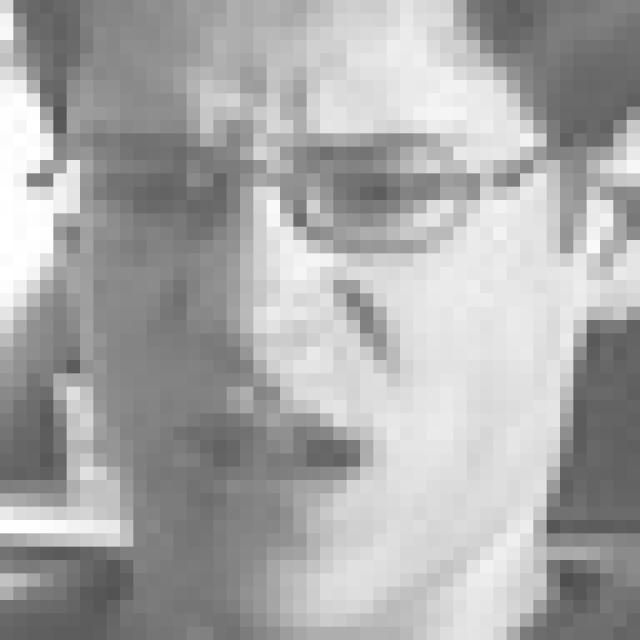disgust: (94, 122, 473, 528)
